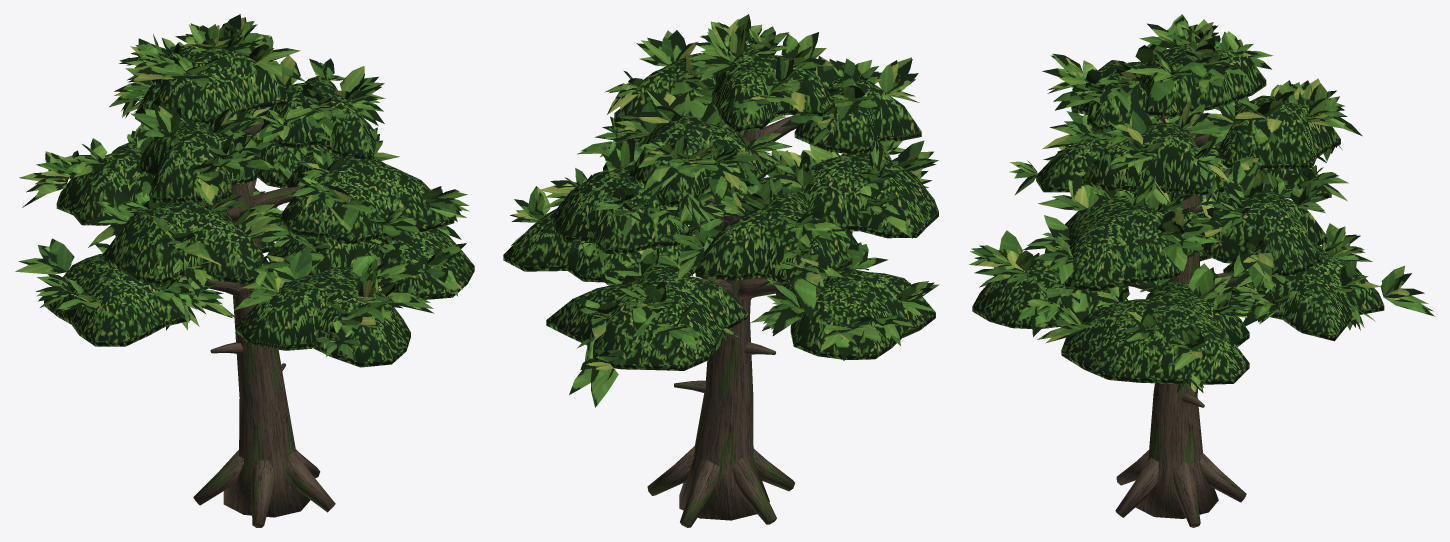
The model's file is Canopy_Tree_A.glb.
3 renders of one model, left to right at view 1: azimuth 30°, elevation 25°; view 2: azimuth 150°, elevation 25°; view 3: azimuth 270°, elevation 25°, orthographic. The views are drawn at different scales.
Visible parts, largest first — view 1: Canopy_Tree_A__Leaves_Mass, Canopy_Tree_A__Leaves_Detail, Canopy_Tree_A__Bark; view 2: Canopy_Tree_A__Leaves_Mass, Canopy_Tree_A__Leaves_Detail, Canopy_Tree_A__Bark; view 3: Canopy_Tree_A__Leaves_Mass, Canopy_Tree_A__Leaves_Detail, Canopy_Tree_A__Bark.
Part boxes in pixels (x1=…): Canopy_Tree_A__Leaves_Mass: x1=44, y1=46, x2=474, y2=367; Canopy_Tree_A__Leaves_Detail: x1=15, y1=14, x2=469, y2=360; Canopy_Tree_A__Bark: x1=180, y1=118, x2=335, y2=527; Canopy_Tree_A__Leaves_Mass: x1=503, y1=44, x2=938, y2=370; Canopy_Tree_A__Leaves_Detail: x1=510, y1=14, x2=939, y2=407; Canopy_Tree_A__Bark: x1=647, y1=115, x2=799, y2=527; Canopy_Tree_A__Leaves_Mass: x1=972, y1=44, x2=1384, y2=384; Canopy_Tree_A__Leaves_Detail: x1=969, y1=14, x2=1434, y2=394; Canopy_Tree_A__Bark: x1=1115, y1=117, x2=1246, y2=527.
Bounding box in the file's own units: 39.7 × 44.23 × 41.11.
Materials: 2 (2 with a texture image).
